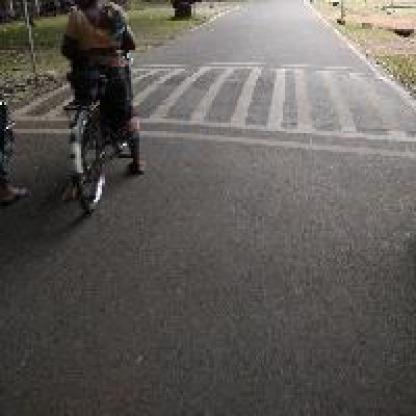Speed Bump: (146, 58, 414, 160)
